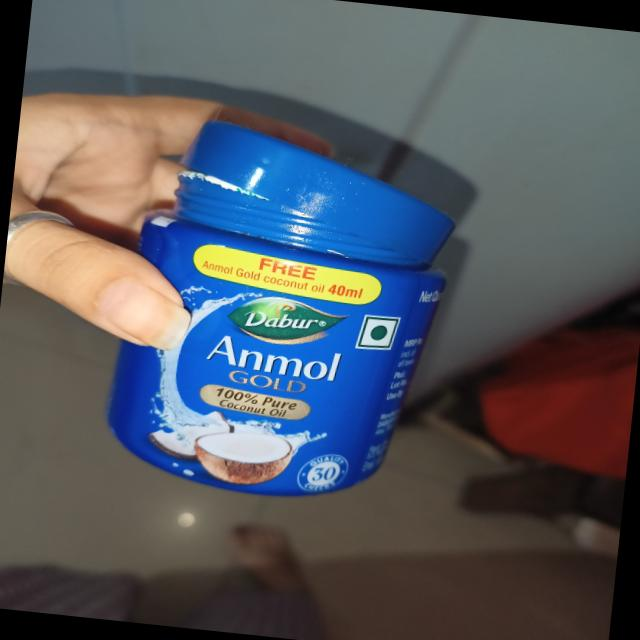plastic_box: (84, 70, 474, 507)
